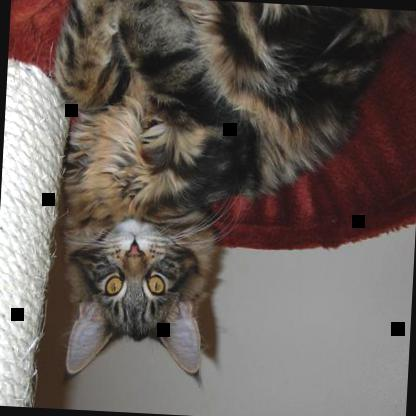cat: (36, 0, 415, 394)
